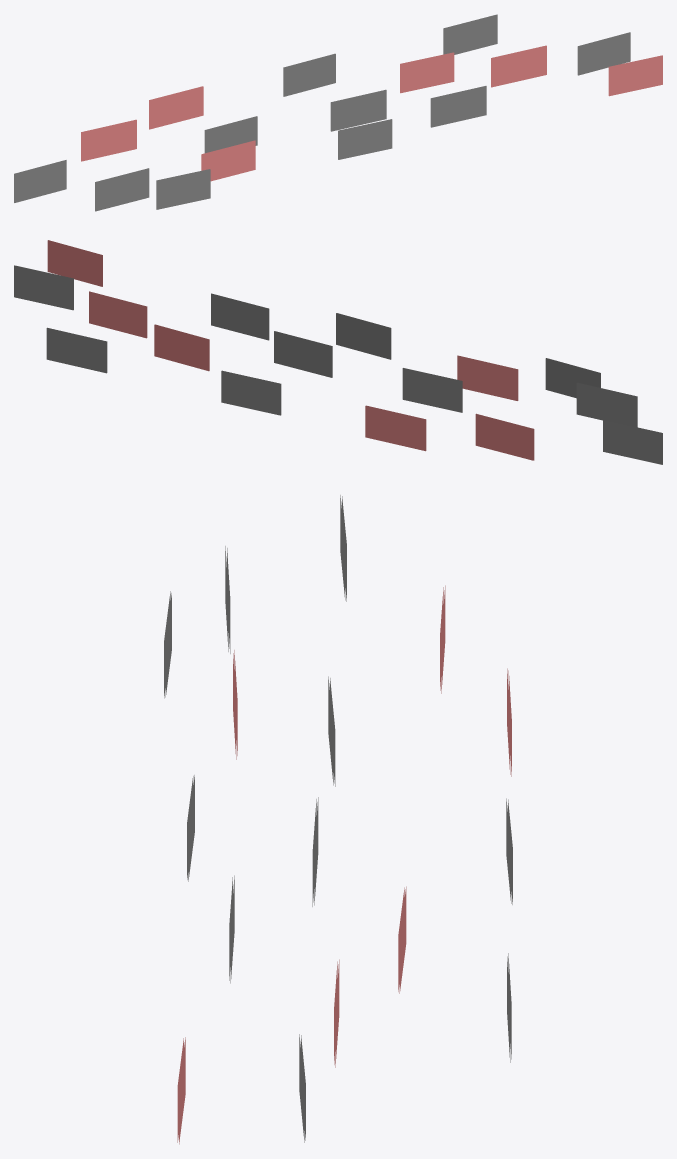
File: Crowd_07.FBX
3 renders of one model, top to bottom at view 1: azimuth 30°, elevation 25°; view 2: azimuth 150°, elevation 25°; view 3: azimuth 270°, elevation 25°, orthographic. The views are drawn at different scales.
Visible parts, largest first — view 1: crowd007; view 2: crowd007; view 3: crowd007.
Boxes of the visible parts, x1,y1,x2,y2 form: crowd007: [14, 14, 662, 211]; crowd007: [14, 240, 662, 464]; crowd007: [164, 495, 512, 1144].
Bounding box in the file's own units: 1089 × 50.13 × 271.
